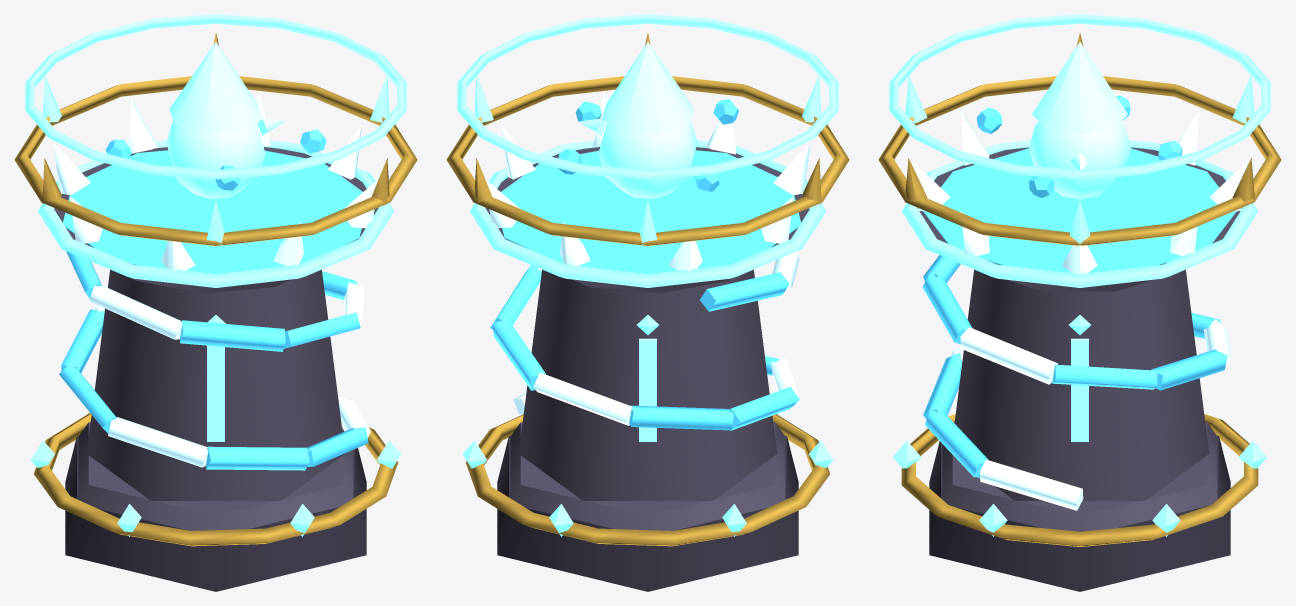
Rendered from tower_element_elementTide_ultimate.glb.
The picture shows the model from 3 angles, left to right: view 1: azimuth 30°, elevation 25°; view 2: azimuth 150°, elevation 25°; view 3: azimuth 270°, elevation 25°; orthographic projection.
Parts seen in each view (by area): view 1: pillar, basin_water, base, ult_crown_band, base_top, ult_halo, ult_ring, basin_rim, crystal_tip, crystal, tide_spiral_11, tide_spiral_2 (+19 smaller); view 2: pillar, basin_water, base, ult_crown_band, base_top, ult_halo, ult_ring, basin_rim, crystal_tip, crystal, tide_spiral_5, tide_spiral_6 (+15 smaller); view 3: pillar, basin_water, base, ult_crown_band, ult_halo, base_top, ult_ring, basin_rim, crystal_tip, crystal, tide_spiral_0, tide_spiral_9 (+18 smaller).
Part boxes in pixels (x1=…): pillar: x1=86, y1=269, x2=345, y2=500; basin_water: x1=63, y1=150, x2=362, y2=273; base: x1=65, y1=435, x2=366, y2=591; ult_crown_band: x1=14, y1=76, x2=417, y2=246; base_top: x1=78, y1=422, x2=353, y2=530; ult_halo: x1=25, y1=14, x2=406, y2=179; ult_ring: x1=34, y1=413, x2=398, y2=546; basin_rim: x1=37, y1=140, x2=394, y2=287; crystal_tip: x1=169, y1=42, x2=262, y2=133; crystal: x1=166, y1=121, x2=265, y2=198; tide_spiral_11: x1=179, y1=320, x2=285, y2=351; tide_spiral_2: x1=205, y1=446, x2=309, y2=470; pillar: x1=518, y1=269, x2=777, y2=500; basin_water: x1=501, y1=150, x2=800, y2=273; base: x1=497, y1=435, x2=798, y2=591; ult_crown_band: x1=446, y1=76, x2=849, y2=246; base_top: x1=510, y1=422, x2=785, y2=530; ult_halo: x1=457, y1=14, x2=838, y2=179; ult_ring: x1=465, y1=414, x2=829, y2=546; basin_rim: x1=469, y1=140, x2=826, y2=287; crystal_tip: x1=601, y1=42, x2=694, y2=133; crystal: x1=598, y1=121, x2=697, y2=198; tide_spiral_5: x1=629, y1=405, x2=733, y2=430; tide_spiral_6: x1=533, y1=372, x2=632, y2=425; pillar: x1=950, y1=269, x2=1209, y2=500; basin_water: x1=923, y1=148, x2=1236, y2=272; base: x1=929, y1=435, x2=1230, y2=591; ult_crown_band: x1=878, y1=76, x2=1281, y2=246; ult_halo: x1=889, y1=14, x2=1270, y2=179; base_top: x1=942, y1=422, x2=1217, y2=531; ult_ring: x1=901, y1=414, x2=1258, y2=546; basin_rim: x1=901, y1=140, x2=1258, y2=287; crystal_tip: x1=1032, y1=42, x2=1127, y2=134; crystal: x1=1028, y1=122, x2=1131, y2=199; tide_spiral_0: x1=980, y1=459, x2=1083, y2=510; tide_spiral_9: x1=960, y1=327, x2=1057, y2=384.
Bounding box in the file's own units: 0.4521 × 0.59 × 0.4521.
